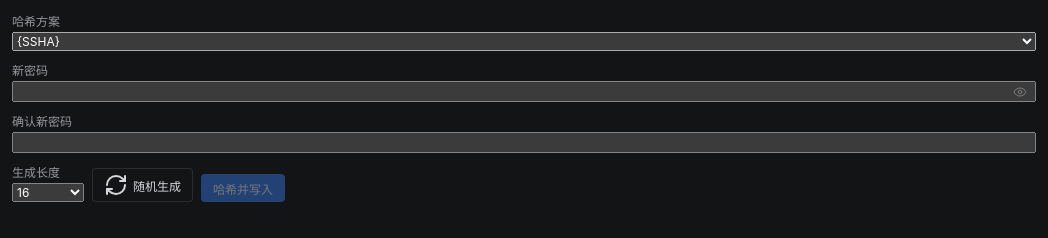
PasswordAttributeEditor › keeps the apply button disabled until a password is entered
Expected: the button "哈希并写入" is disabled, [201,174,285,202]
In the password field labelled "新密码": (524, 92) [12,81,1036,102], type "password"
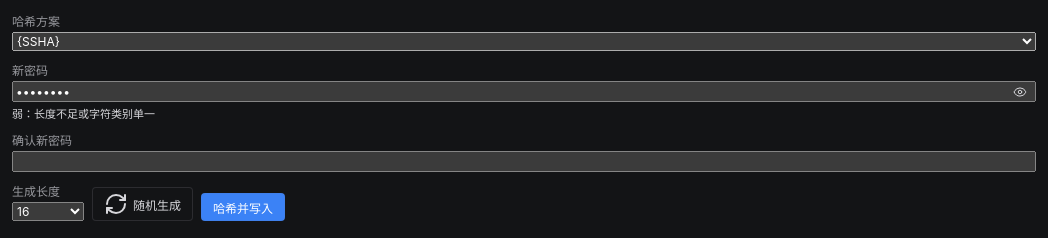
Result: the button "哈希并写入" is enabled at [201,193,285,221]
